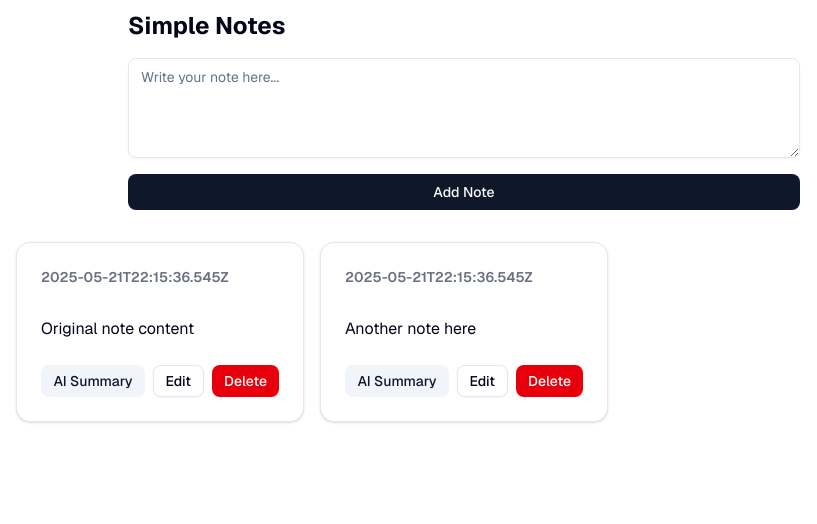
it: Home Page Integration Tests › allows user to edit a note
Check: the text "Original note content" is shown, box [41,318,194,339]
Click the button "Edit" below "Original note content" at (178, 381), box [153,365,204,397]
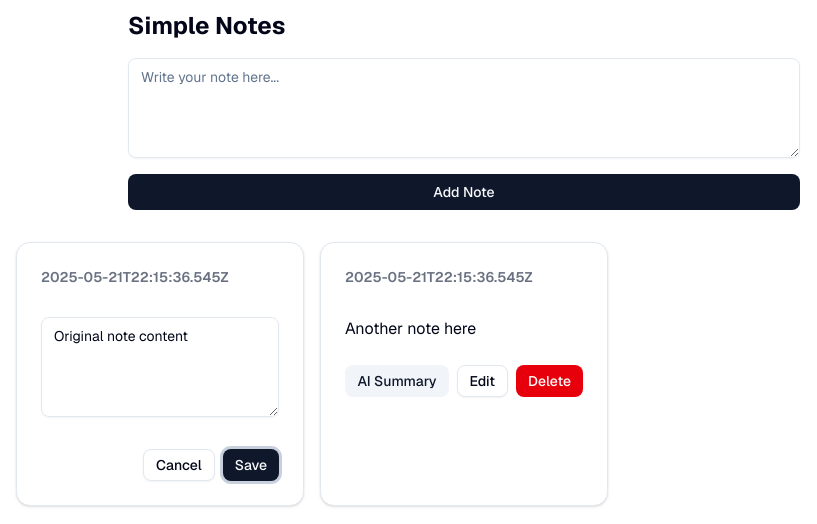
Check: the text box showing "Original note content" is shown
Replace the text in the text box showing "Original note content" with "Updated note content!" at (160, 367), box [41,317,279,417]
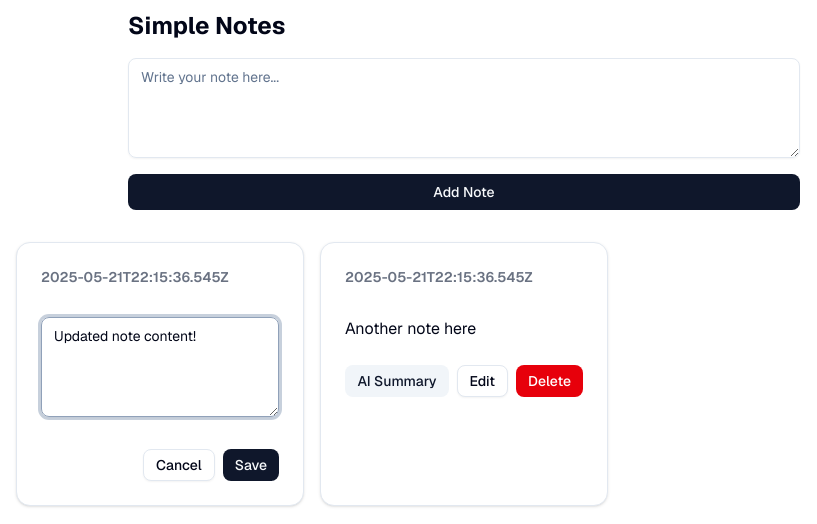
Click the button "Save" at (251, 465), box [223,449,279,481]
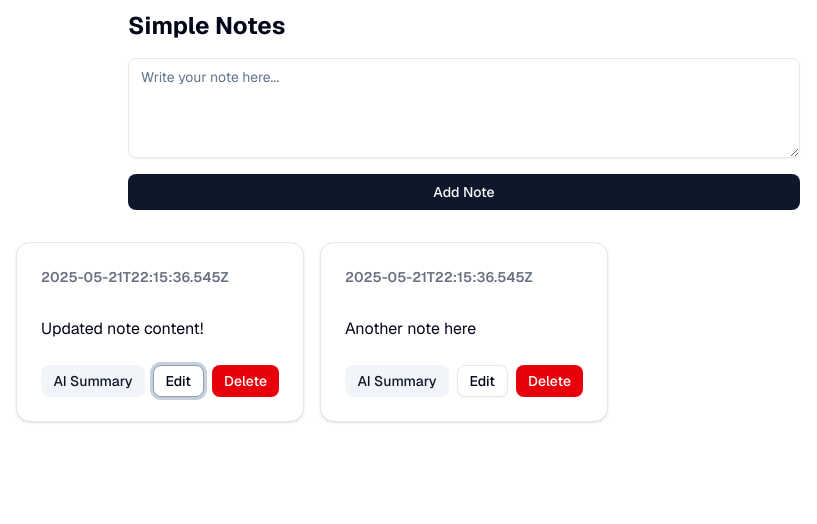
Check: the text "Original note content" is not shown
Check: the text "Updated note content!" is shown, box [41,318,203,339]
